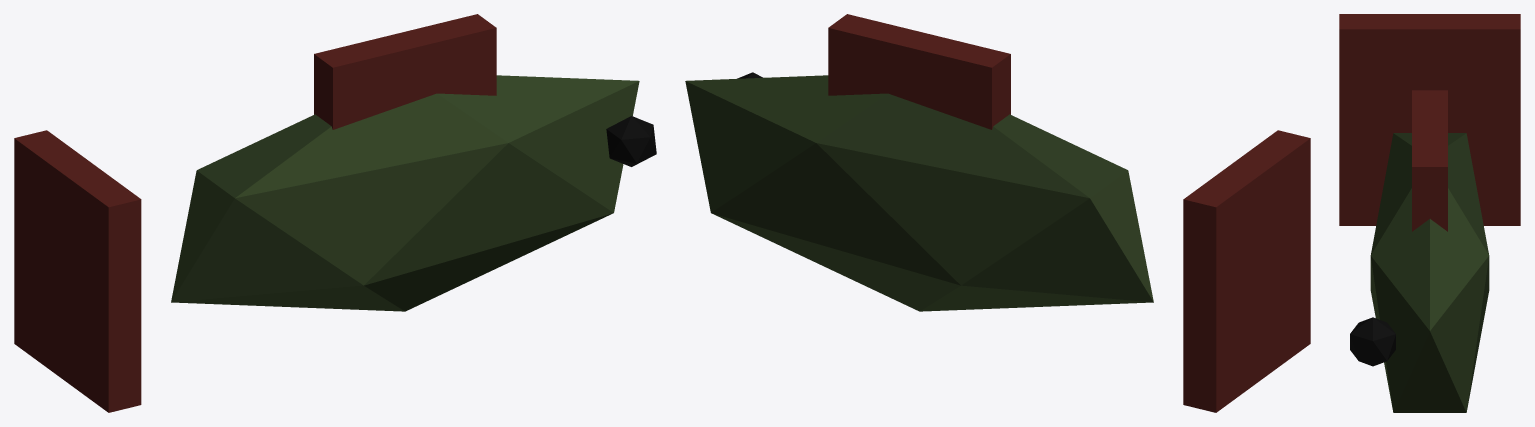
File: perch.glb
3 views of the same model, side by side, from view 1: azimuth 30°, elevation 25°; view 2: azimuth 150°, elevation 25°; view 3: azimuth 270°, elevation 25° (orthographic). The views are drawn at different scales.
Parts seen in each view (by area): view 1: Perch; view 2: Perch; view 3: Perch.
Part boxes in pixels (left/top/right/bottom): Perch: left=14, top=14, right=656, bottom=412; Perch: left=685, top=14, right=1310, bottom=412; Perch: left=1339, top=14, right=1520, bottom=412.
Size of the model in its own units: 0.3531 by 0.158 by 0.1.
